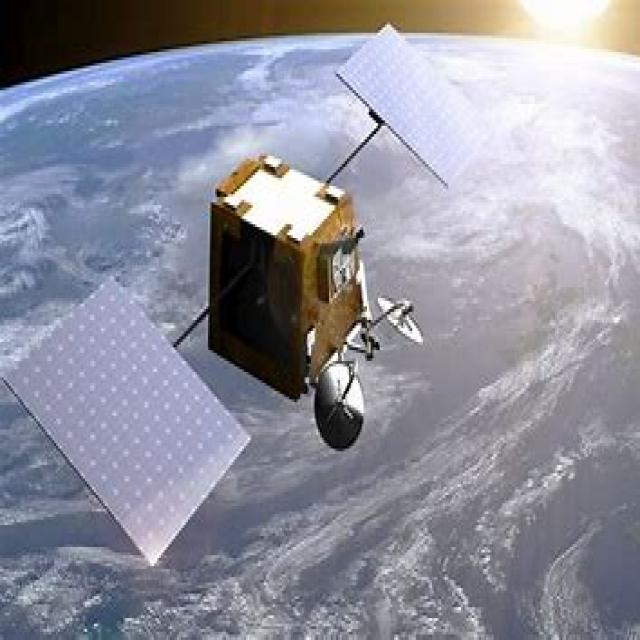satellite: (0, 27, 505, 606)
